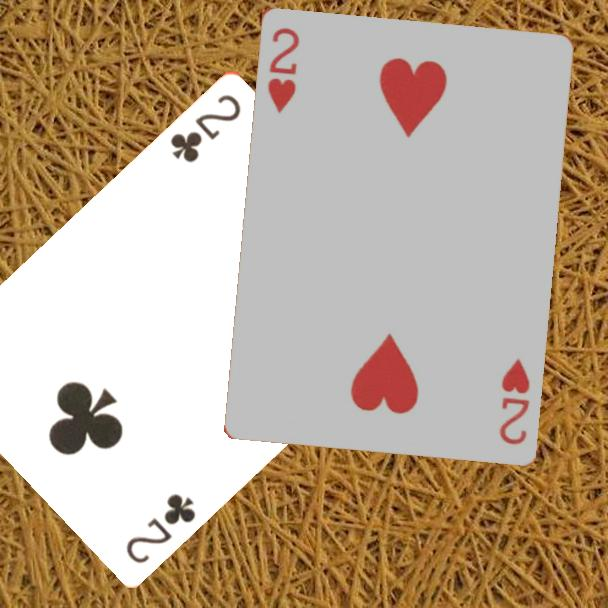c02: (122, 489, 199, 566), (166, 90, 244, 166)
h02: (263, 23, 302, 116), (495, 354, 532, 447)
